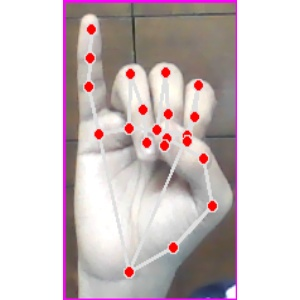I: (63, 1, 237, 300)
